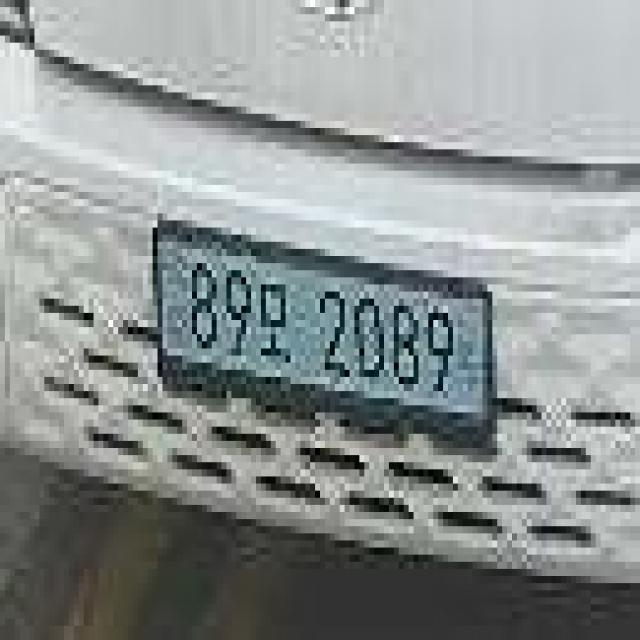EV_plate: (152, 213, 498, 452)
